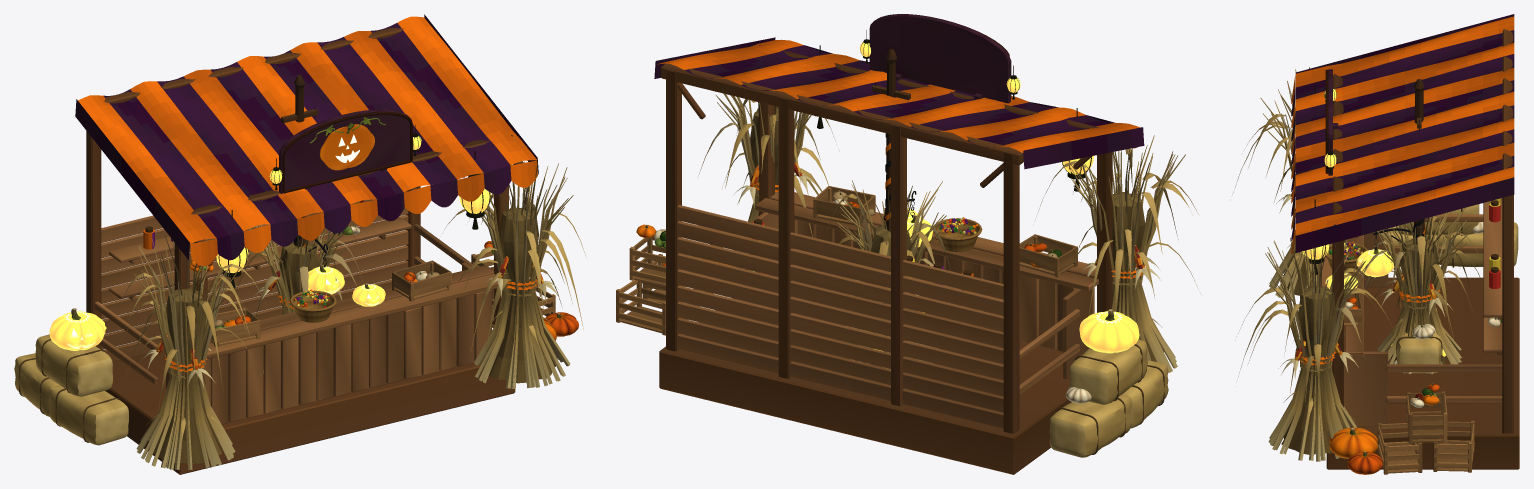
The model's file is gourdlight_decor.glb.
3 views of the same model, side by side, from view 1: azimuth 30°, elevation 25°; view 2: azimuth 150°, elevation 25°; view 3: azimuth 270°, elevation 25° (orthographic). The views are drawn at different scales.
Parts seen in each view (by area): view 1: keeper_stall, corn_shock, road_lantern, garland_pole; view 2: keeper_stall, corn_shock, garland_pole; view 3: keeper_stall, corn_shock, hay_bale, road_lantern, garland_pole.
Part boxes in pixels (left/top/right/bottom): keeper_stall: left=14, top=14, right=585, bottom=474; corn_shock: left=230, top=213, right=362, bottom=373; road_lantern: left=304, top=239, right=344, bottom=294; garland_pole: left=281, top=75, right=318, bottom=246; keeper_stall: left=616, top=14, right=1200, bottom=474; corn_shock: left=826, top=180, right=951, bottom=369; garland_pole: left=872, top=49, right=910, bottom=230; keeper_stall: left=1233, top=14, right=1519, bottom=474; corn_shock: left=1357, top=207, right=1483, bottom=374; hay_bale: left=1396, top=308, right=1442, bottom=373; road_lantern: left=1356, top=225, right=1424, bottom=277; garland_pole: left=1413, top=79, right=1425, bottom=236.
Size of the model in its own units: 7.06 by 4.83 by 3.75.
